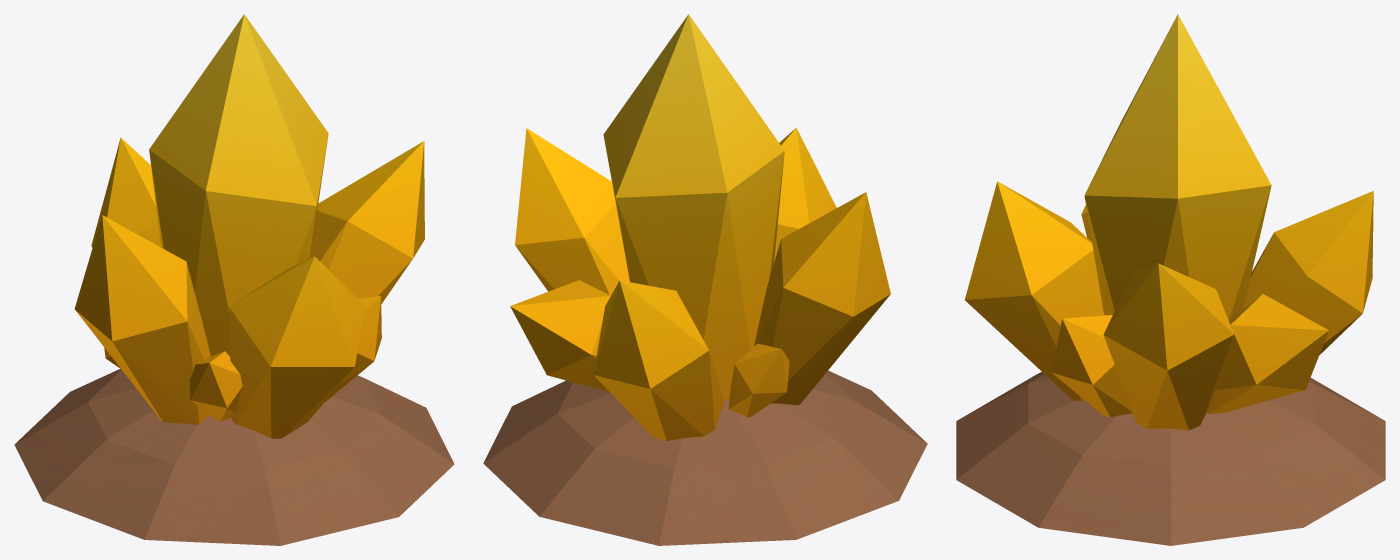
The model's file is Crystal_yellow_01.fbx.
3 views of the same model, side by side, from view 1: azimuth 30°, elevation 25°; view 2: azimuth 150°, elevation 25°; view 3: azimuth 270°, elevation 25° (orthographic).
Parts seen in each view (by area): view 1: Crystal_yellow_01; view 2: Crystal_yellow_01; view 3: Crystal_yellow_01.
Part boxes in pixels (x1=…): Crystal_yellow_01: x1=14, y1=14, x2=454, y2=545; Crystal_yellow_01: x1=483, y1=14, x2=927, y2=545; Crystal_yellow_01: x1=956, y1=14, x2=1385, y2=545.
Bounding box in the file's own units: 130 × 141 × 124.
